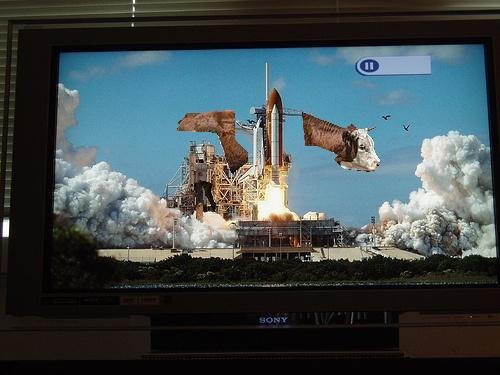tampered: (177, 111, 380, 223)
